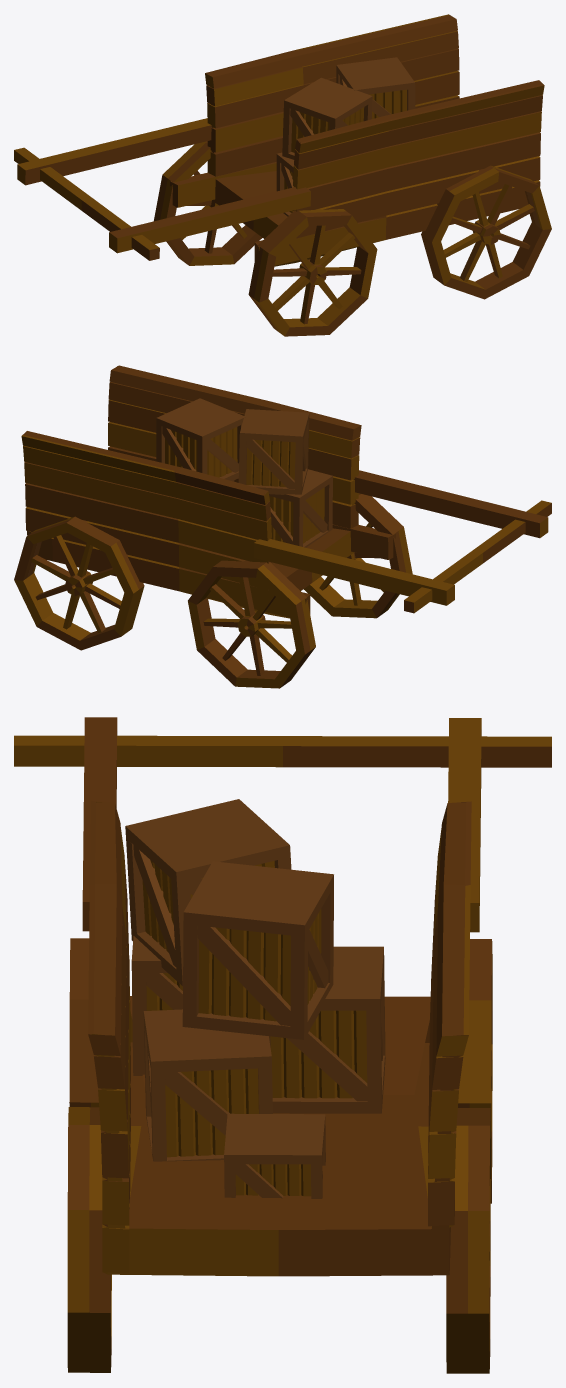
The model's file is wagon.fbx.
3 views of the same model, one above another, from view 1: azimuth 30°, elevation 25°; view 2: azimuth 150°, elevation 25°; view 3: azimuth 270°, elevation 25° (orthographic). The views are drawn at different scales.
Parts seen in each view (by area): view 1: Wagon_export; view 2: Wagon_export; view 3: Wagon_export.
Boxes of the visible parts, box(x1,y1,x2,y2) form: Wagon_export: box(14, 14, 551, 336); Wagon_export: box(14, 365, 551, 688); Wagon_export: box(14, 717, 551, 1373).
Size of the model in its own units: 2162 by 1805 by 3940.
